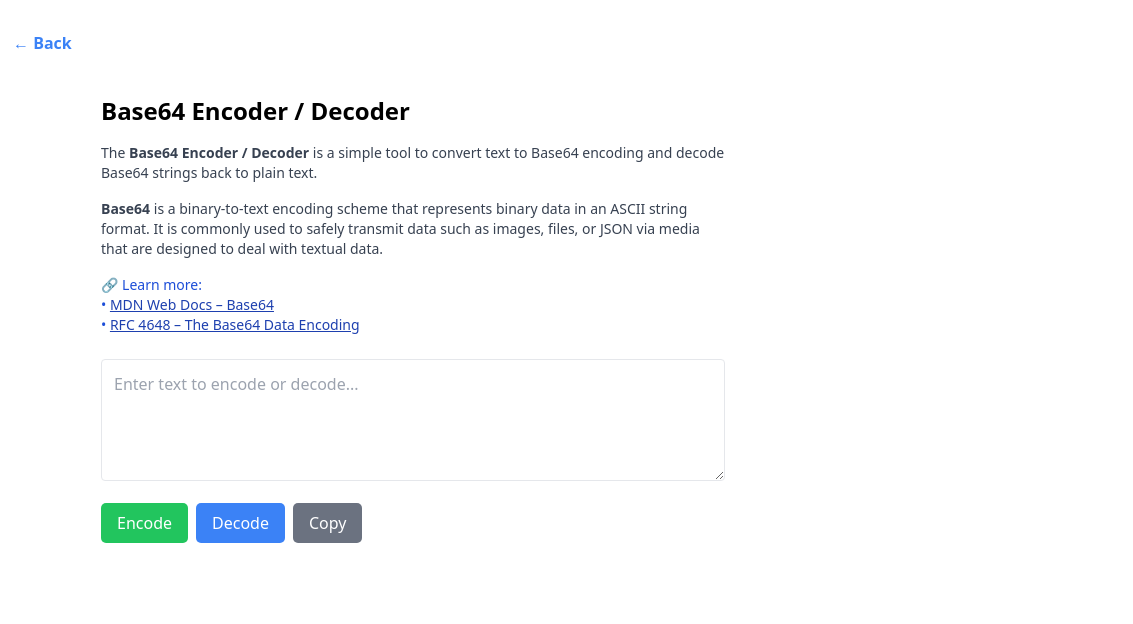
Test case: Base64Encoder › encodes input to base64
The width and height of the screenshot is (1133, 624).
Type "hello" into the text box with placeholder "Enter text to encode or decode...".
click(413, 420); type("hello")  # box 101,359 -> 725,481
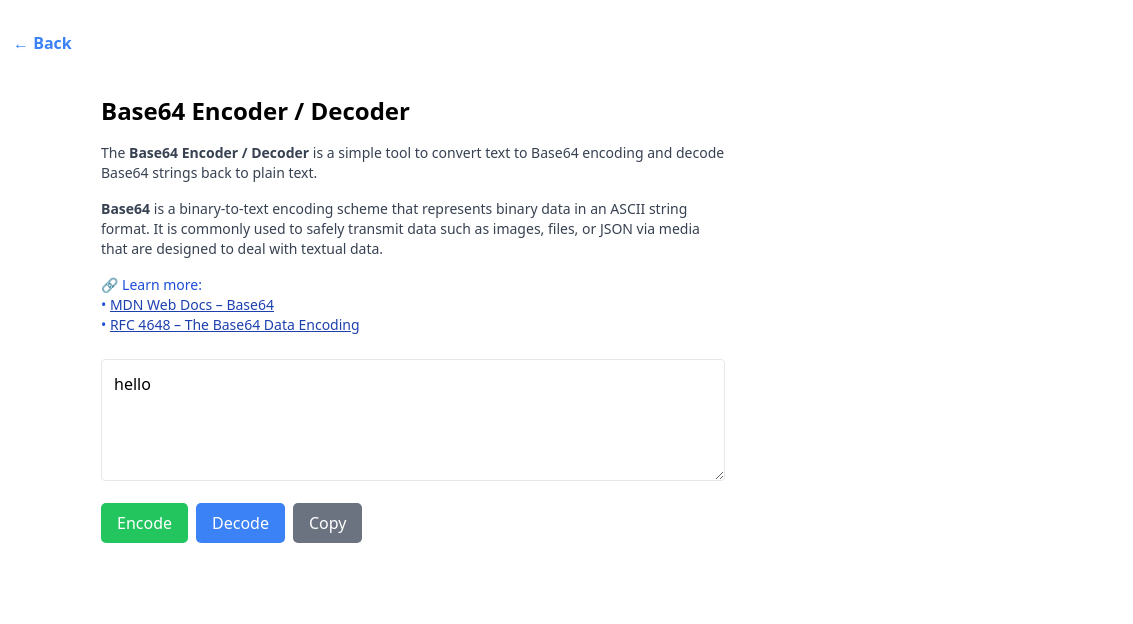
Click the button with class "btn-green".
click(144, 523)  # box 101,503 -> 188,543
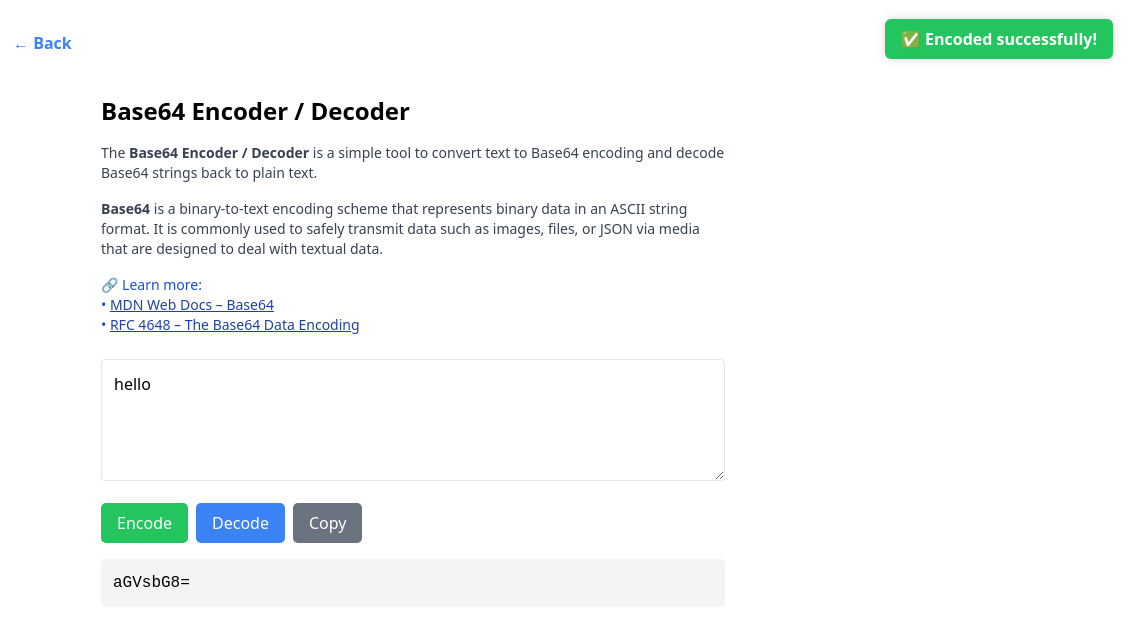
Result: the text "aGVsbG8=" is shown at 113,574 -> 190,592
Result: the text "Encoded successfully!" is shown at 901,28 -> 1097,50
